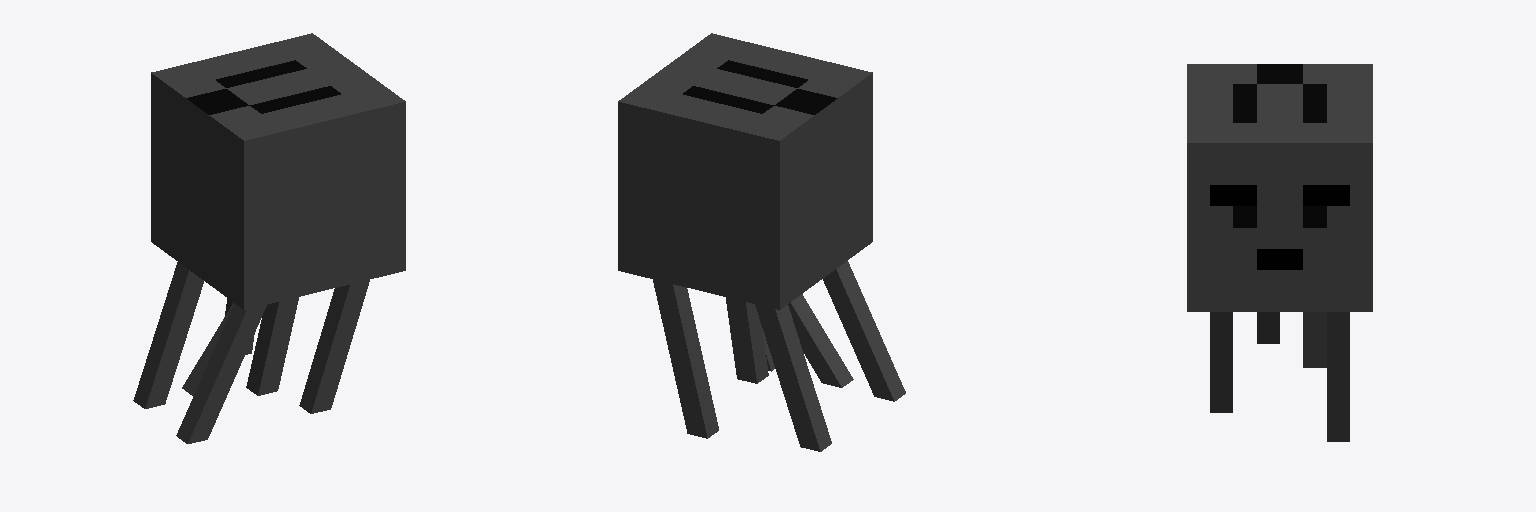
File: Ghast.mtl.obj
3 renders of one model, left to right at view 1: azimuth 30°, elevation 25°; view 2: azimuth 150°, elevation 25°; view 3: azimuth 270°, elevation 25°, orthographic.
Visible parts, largest first — view 1: Cube_Material, Cube_Material.001; view 2: Cube_Material, Cube_Material.001; view 3: Cube_Material, Cube_Material.001, Cube_Grey.001.
Part boxes in pixels (x1,y1,x2,y2): Cube_Material: (133,33,405,443); Cube_Material.001: (186,60,340,114); Cube_Material: (618,33,905,451); Cube_Material.001: (683,60,837,114); Cube_Material: (1187,64,1372,441); Cube_Material.001: (1233,64,1326,227); Cube_Grey.001: (1210,185,1349,269).
Size of the model in its own units: 2.55 by 3.86 by 2.